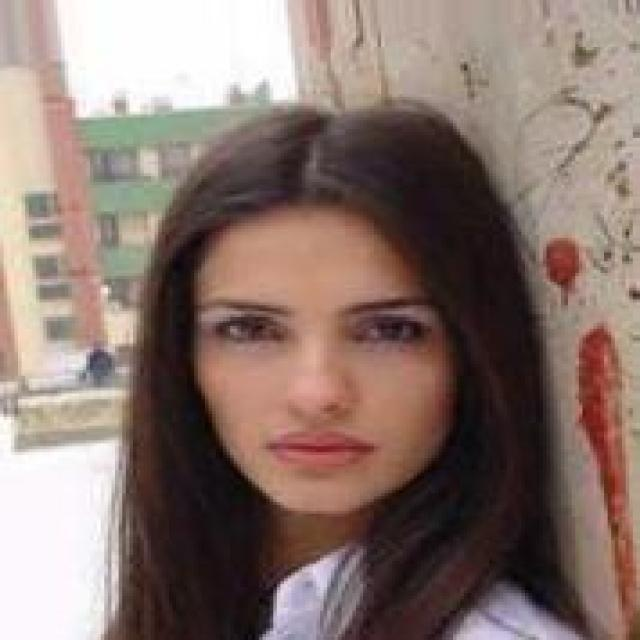bareface: (194, 226, 452, 514)
